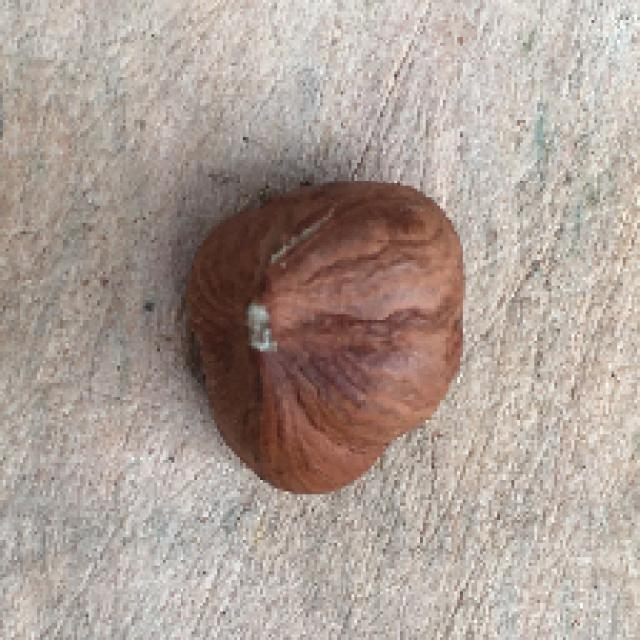hazelnut: (180, 170, 473, 506)
